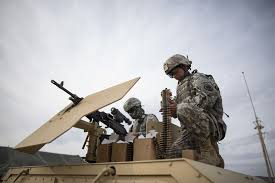gun: (49, 76, 131, 138)
